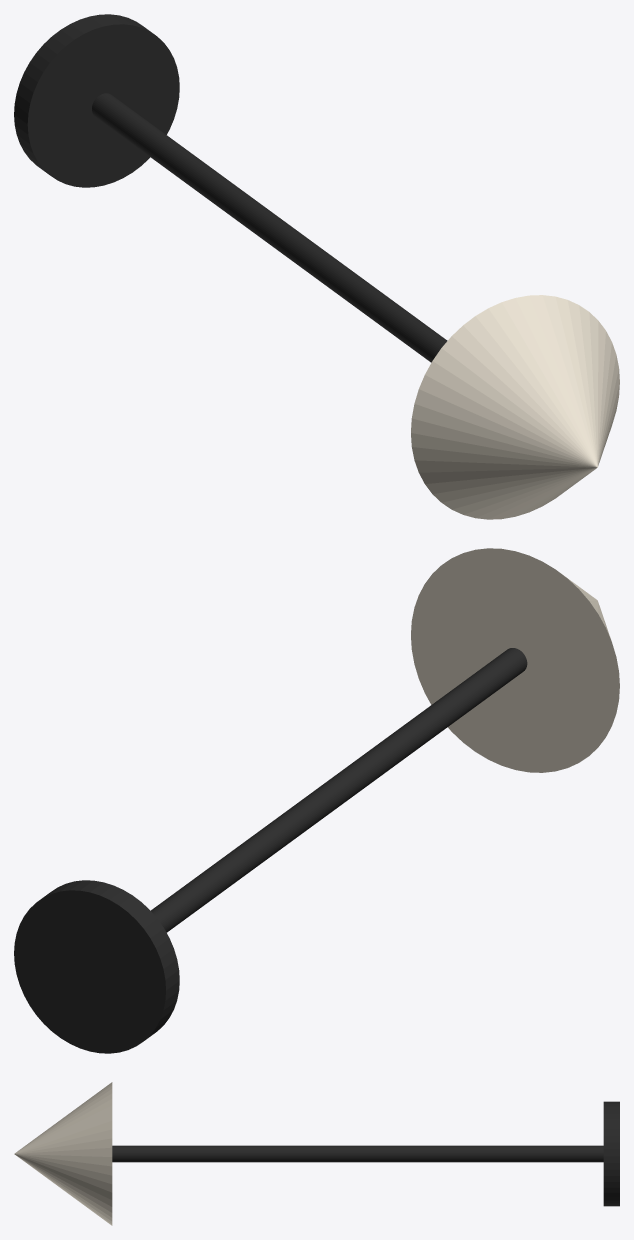
Rendered from gallery015_floor_lamp.glb.
3 views of the same model, one above another, from view 1: azimuth 30°, elevation 25°; view 2: azimuth 150°, elevation 25°; view 3: azimuth 270°, elevation 25° (orthographic). The views are drawn at different scales.
Visible parts, largest first — view 1: Shade, Base, Stem; view 2: Shade, Base, Stem; view 3: Stem, Shade, Base.
Boxes of the visible parts, x1,y1,x2,y2 form: Shade: (411,295,619,519); Base: (14,14,179,187); Stem: (92,93,447,362); Shade: (411,548,619,772); Base: (14,880,179,1053); Stem: (151,648,527,932); Stem: (112,1145,603,1162); Shade: (14,1082,112,1225); Base: (603,1101,619,1206).
Size of the model in its own units: 0.44 by 0.44 by 1.85.
